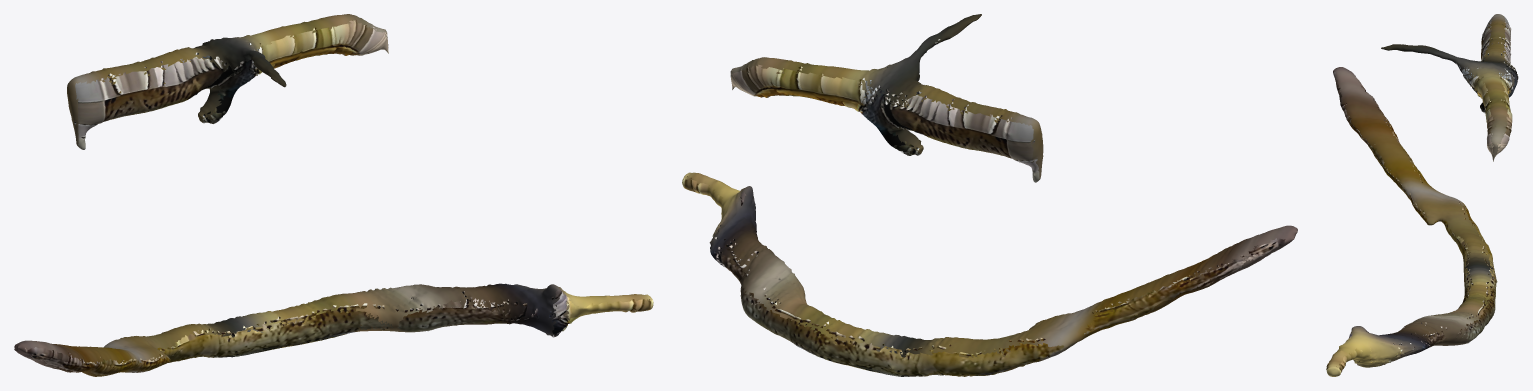
File: kfl-2129.glb
The picture shows the model from 3 angles, left to right: view 1: azimuth 30°, elevation 25°; view 2: azimuth 150°, elevation 25°; view 3: azimuth 270°, elevation 25°; orthographic projection. The views are drawn at different scales.
Visible parts, largest first — view 1: kfl-2129; view 2: kfl-2129; view 3: kfl-2129.
Boxes of the visible parts, x1=… form: kfl-2129: x1=14, y1=14, x2=653, y2=376; kfl-2129: x1=682, y1=14, x2=1297, y2=376; kfl-2129: x1=1326, y1=14, x2=1518, y2=376.
Bounding box in the file's own units: 0.9862 × 0.4926 × 0.3501.
4 materials, 4 textured.
